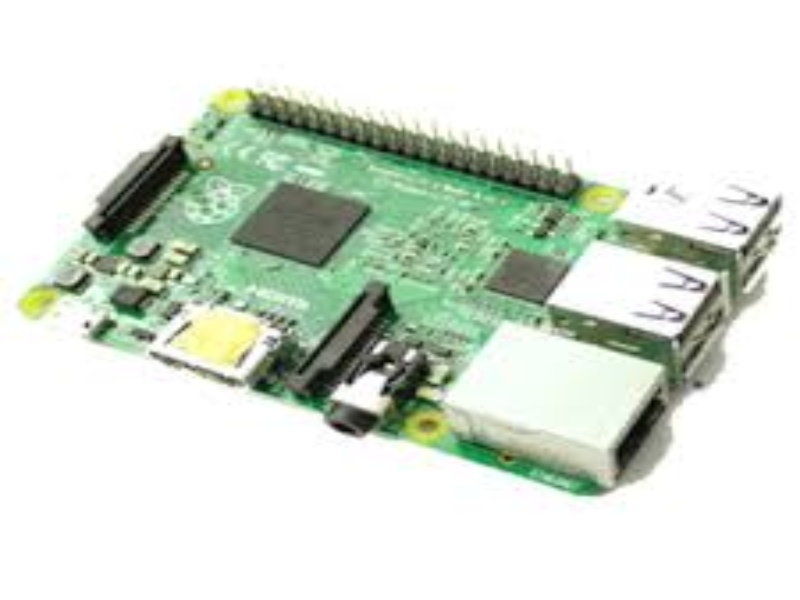raspberrypi: (40, 62, 790, 508)
